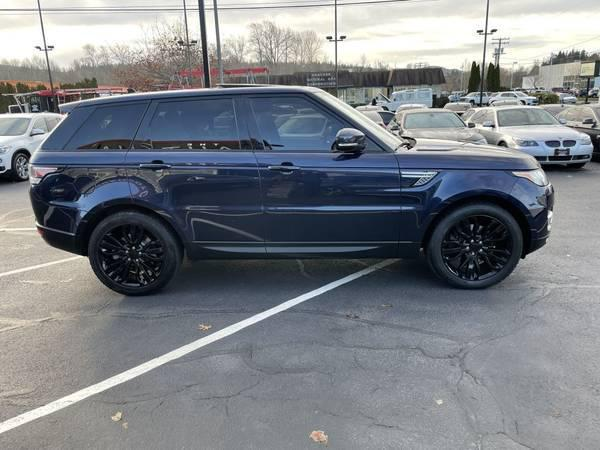Front_Bumper: (509, 178, 556, 253)
Front_Fender: (402, 164, 522, 251)
Front_Right_Door: (257, 153, 403, 254)
Front_Right_Window: (246, 96, 394, 156)
Hood: (398, 133, 536, 167)
Rear_Bumper: (28, 183, 91, 257)
Rear_Fender: (31, 102, 152, 212)
Rear_Right_Door: (127, 150, 265, 254)
Rear_Right_Window: (128, 97, 256, 152)
Right_Headlight: (514, 164, 552, 186)
Right_Taillight: (27, 164, 57, 189)
Roof: (39, 85, 392, 152)
Wheel: (428, 203, 526, 288), (88, 210, 183, 292)
